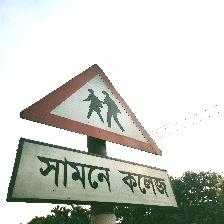College-in-front: (0, 56, 218, 212)
